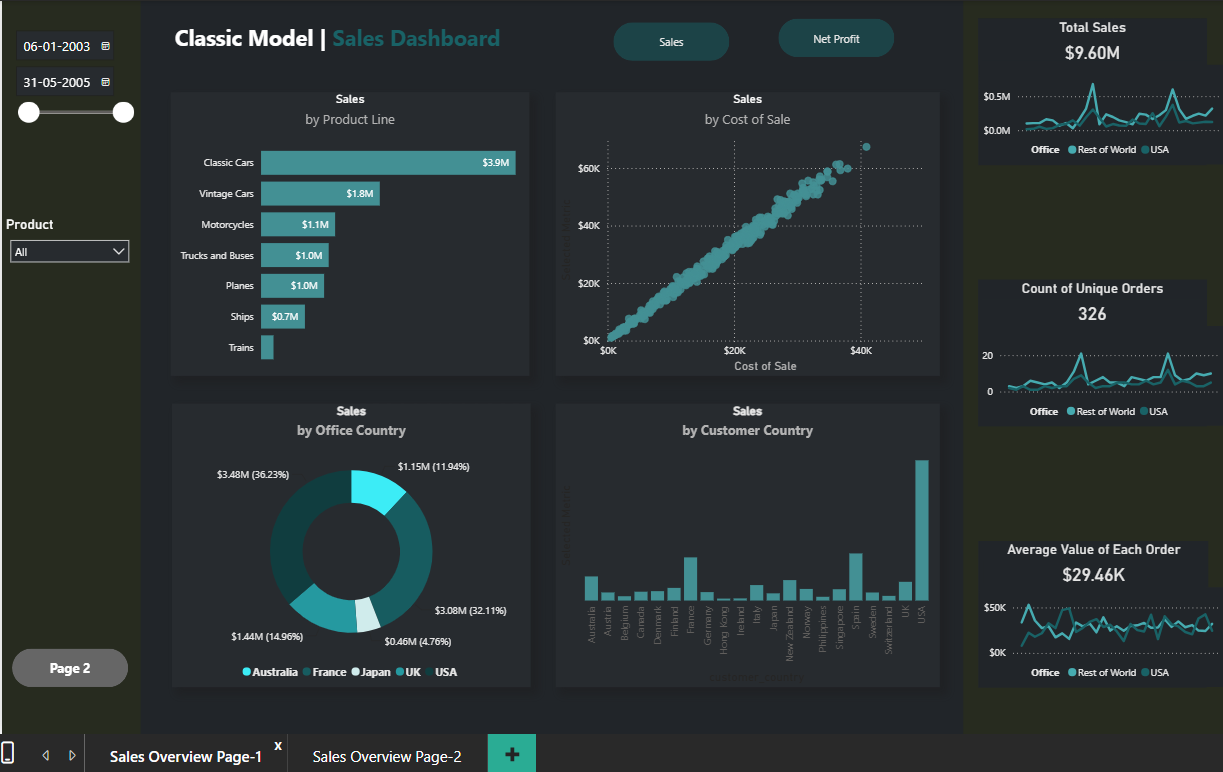

This screenshot's page, from the dashboard's own definition file:
{"tool":"powerbi","page":{"name":"Sales Overview Page-1","canvas":[1500,900],"ordinal":0},"visuals":[{"type":"shape","box":[0,0,170,900.3],"z":0},{"type":"shape","box":[1179.5,0,320,900.3],"z":1000},{"type":"shape","box":[1197.9,21.5,280,180],"z":2000},{"type":"shape","box":[1197.9,662.6,280,180],"z":3000},{"type":"shape","box":[1197.9,342,280,180],"z":4000},{"type":"cardVisual","title":"Total Sales","fields":{"Data":["Sum(classicmodels sales_data_for_power_bi.sales_value)"]},"box":[1197.9,21.5,280.7,56.7],"z":5000},{"type":"cardVisual","title":"Count of Unique Orders","fields":{"Data":["Count(classicmodels sales_data_for_power_bi.ordernumber)"]},"box":[1197.9,342,280.7,56.7],"z":6000},{"type":"cardVisual","title":"Average Value of Each Order","fields":{"Data":["classicmodels sales_data_for_power_bi.Average Sales Value per Order"]},"box":[1199.4,662.6,280.7,56.7],"z":7000},{"type":"lineChart","fields":{"Y":["Sum(classicmodels sales_data_for_power_bi.sales_value)"],"Category":["classicmodels sales_data_for_power_bi.orderdate.Variation.Date Hierarchy.Year","classicmodels sales_data_for_power_bi.orderdate.Variation.Date Hierarchy.Quarter","classicmodels sales_data_for_power_bi.orderdate.Variation.Date Hierarchy.Month"],"Series":["classicmodels sales_data_for_power_bi.Office Grouped"]},"box":[1199.4,78.2,300.6,122.7],"z":8000},{"type":"lineChart","fields":{"Category":["classicmodels sales_data_for_power_bi.orderdate.Variation.Date Hierarchy.Year","classicmodels sales_data_for_power_bi.orderdate.Variation.Date Hierarchy.Quarter","classicmodels sales_data_for_power_bi.orderdate.Variation.Date Hierarchy.Month"],"Series":["classicmodels sales_data_for_power_bi.Office Grouped"],"Y":["Count(classicmodels sales_data_for_power_bi.ordernumber)"]},"box":[1197.9,398.8,300.6,122.7],"z":9000},{"type":"lineChart","fields":{"Category":["classicmodels sales_data_for_power_bi.orderdate.Variation.Date Hierarchy.Year","classicmodels sales_data_for_power_bi.orderdate.Variation.Date Hierarchy.Quarter","classicmodels sales_data_for_power_bi.orderdate.Variation.Date Hierarchy.Month"],"Series":["classicmodels sales_data_for_power_bi.Office Grouped"],"Y":["classicmodels sales_data_for_power_bi.Average Sales Value per Order"]},"box":[1199.4,719.3,300.6,122.7],"z":10000},{"type":"barChart","fields":{"Y":["Table.Selected Metric"],"Category":["classicmodels sales_data_for_power_bi.productLine"]},"box":[207.1,112,440.2,348.2],"z":11000},{"type":"actionButton","box":[750,26.1,142.6,47.5],"z":12000},{"type":"actionButton","box":[952.5,21.5,142.6,47.5],"z":13000},{"type":"scatterChart","fields":{"Y":["Table.Selected Metric"],"X":["Sum(classicmodels sales_data_for_power_bi.cost_of_sales)"],"Category":["classicmodels sales_data_for_power_bi.ordernumber"]},"box":[679.5,112,470.9,348.2],"z":15000},{"type":"donutChart","fields":{"Y":["Table.Selected Metric"],"Category":["classicmodels sales_data_for_power_bi.office_country"]},"box":[208.6,493.9,440.2,348.2],"z":16000},{"type":"columnChart","fields":{"Y":["Table.Selected Metric"],"Category":["classicmodels sales_data_for_power_bi.customer_country"]},"box":[679.5,493.9,470.9,348.2],"z":17000},{"type":"textbox","box":[207.1,21.5,503.1,47.5],"z":18000},{"type":"actionButton","box":[12.3,794.5,142.6,47.5],"z":19000},{"type":"slicer","fields":{"Values":["classicmodels sales_data_for_power_bi.orderdate"]},"box":[4.6,26.1,165.6,135],"z":19001},{"type":"slicer","title":"Product","fields":{"Values":["classicmodels sales_data_for_power_bi.productName"]},"box":[0,263.8,165.6,257.7],"z":19002}]}

Visuals, with their boxes on the page's 1500x900 design canvas (x1, y1, x2, y2). These are canvas units, not pixel positions in the 1223x772 screenshot, which may show the page scaled, cropped or inside an application window:
shape: select_region(0, 0, 170, 900)
shape: select_region(1180, 0, 1500, 900)
shape: select_region(1198, 22, 1478, 202)
shape: select_region(1198, 663, 1478, 843)
shape: select_region(1198, 342, 1478, 522)
"Total Sales" cardVisual: select_region(1198, 22, 1479, 78)
"Count of Unique Orders" cardVisual: select_region(1198, 342, 1479, 399)
"Average Value of Each Order" cardVisual: select_region(1199, 663, 1480, 719)
lineChart - Sum(classicmodels sales_data_for_power_bi.sales_value) x classicmodels sales_data_for_power_bi.orderdate.Variation.Date Hierarchy.Year: select_region(1199, 78, 1500, 201)
lineChart - classicmodels sales_data_for_power_bi.orderdate.Variation.Date Hierarchy.Year x classicmodels sales_data_for_power_bi.orderdate.Variation.Date Hierarchy.Quarter: select_region(1198, 399, 1498, 522)
lineChart - classicmodels sales_data_for_power_bi.orderdate.Variation.Date Hierarchy.Year x classicmodels sales_data_for_power_bi.orderdate.Variation.Date Hierarchy.Quarter: select_region(1199, 719, 1500, 842)
barChart - Table.Selected Metric x classicmodels sales_data_for_power_bi.productLine: select_region(207, 112, 647, 460)
actionButton: select_region(750, 26, 893, 74)
actionButton: select_region(952, 22, 1095, 69)
scatterChart - Table.Selected Metric x Sum(classicmodels sales_data_for_power_bi.cost_of_sales): select_region(680, 112, 1150, 460)
donutChart - Table.Selected Metric x classicmodels sales_data_for_power_bi.office_country: select_region(209, 494, 649, 842)
columnChart - Table.Selected Metric x classicmodels sales_data_for_power_bi.customer_country: select_region(680, 494, 1150, 842)
textbox: select_region(207, 22, 710, 69)
actionButton: select_region(12, 794, 155, 842)
slicer - classicmodels sales_data_for_power_bi.orderdate: select_region(5, 26, 170, 161)
"Product" slicer: select_region(0, 264, 166, 522)
